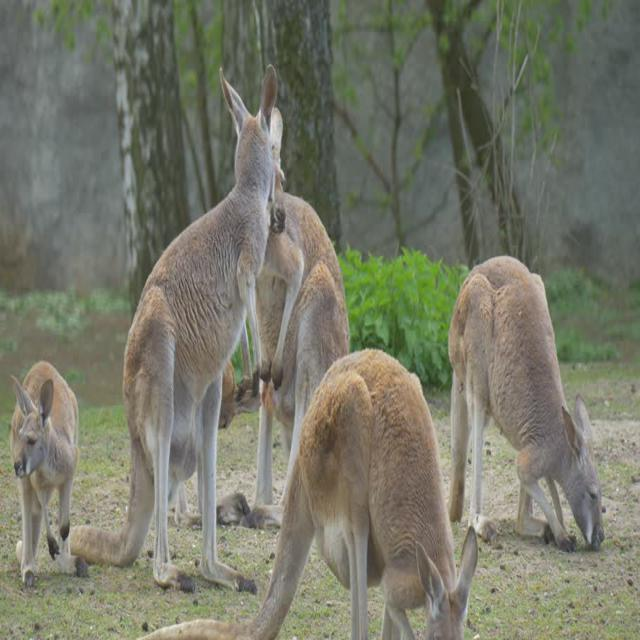kangaroo: (120, 72, 279, 592), (277, 345, 484, 630), (439, 255, 607, 552), (2, 360, 77, 583)
